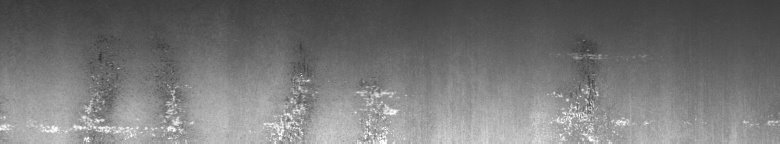hc: (547, 40, 635, 136)
